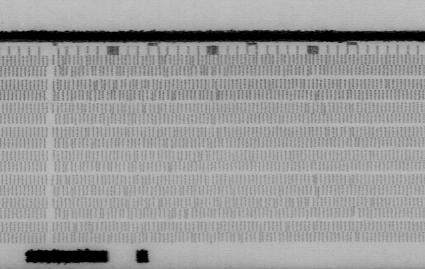Oblique printing: (57, 136, 214, 240), (48, 54, 228, 103), (65, 101, 163, 125), (298, 65, 357, 103), (252, 196, 321, 219), (217, 220, 265, 246), (210, 126, 236, 149), (342, 125, 362, 149), (341, 231, 367, 245), (306, 173, 321, 196), (319, 101, 334, 115), (350, 205, 363, 220), (278, 219, 291, 233), (364, 195, 376, 208), (253, 53, 264, 66), (380, 78, 391, 90)
